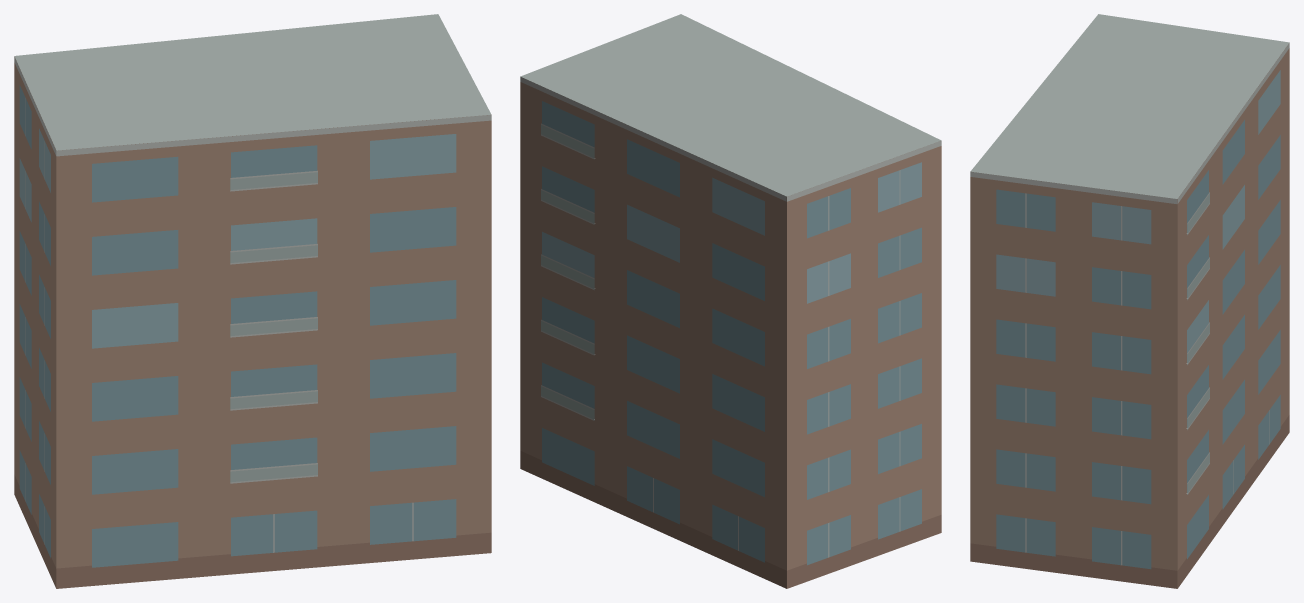
Rendered from survey-upis-33035924.glb.
3 views of the same model, side by side, from view 1: azimuth 30°, elevation 25°; view 2: azimuth 150°, elevation 25°; view 3: azimuth 270°, elevation 25° (orthographic). The views are drawn at different scales.
Parts seen in each view (by area): view 1: survey-upis-33035924.tmp; view 2: survey-upis-33035924.tmp; view 3: survey-upis-33035924.tmp.
Part boxes in pixels (x1,y1,x2,y2): survey-upis-33035924.tmp: [14, 14, 491, 588]; survey-upis-33035924.tmp: [520, 14, 941, 588]; survey-upis-33035924.tmp: [970, 14, 1289, 588].
Bounding box in the file's own units: 18.64 × 18.3 × 13.6.
